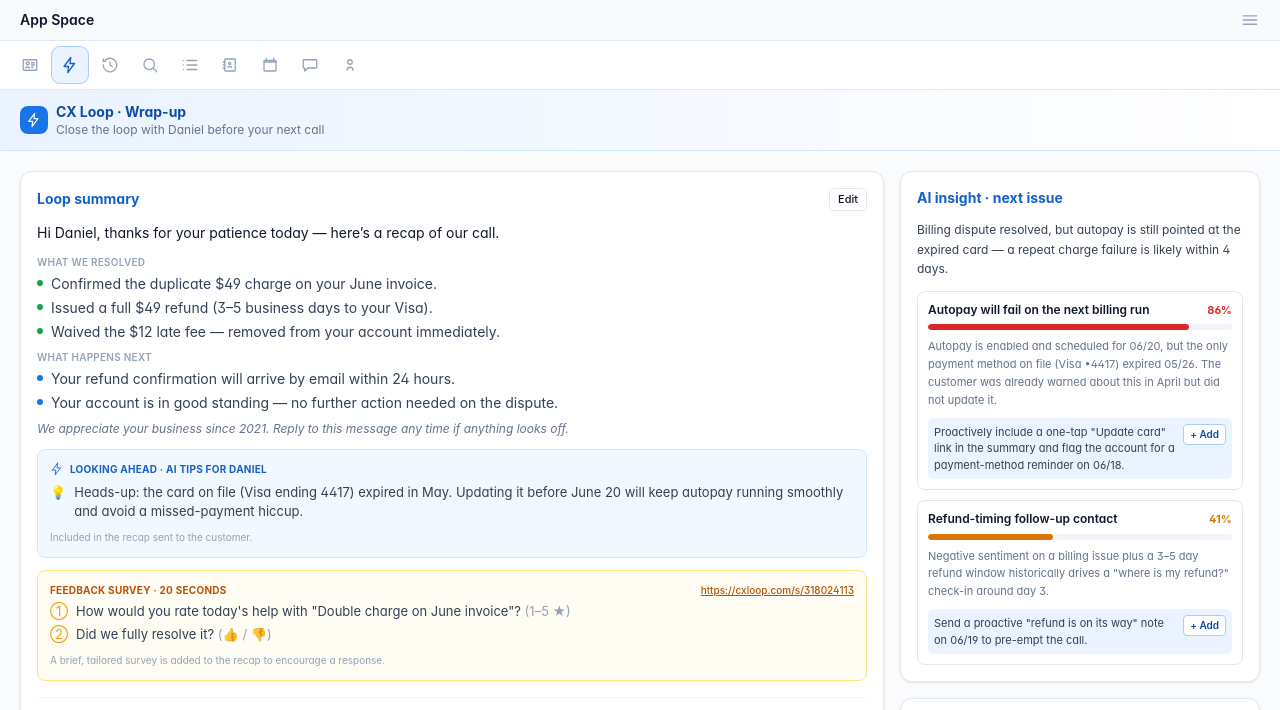
Scenario: AppSpace wrap-up — AI insights in the Loop summary › adds an AI suggested action and confirms with a disabled "Added" state
Click the button "+ Add" below "86".
click(1205, 434)  # box left=1183, top=424, right=1226, bottom=444
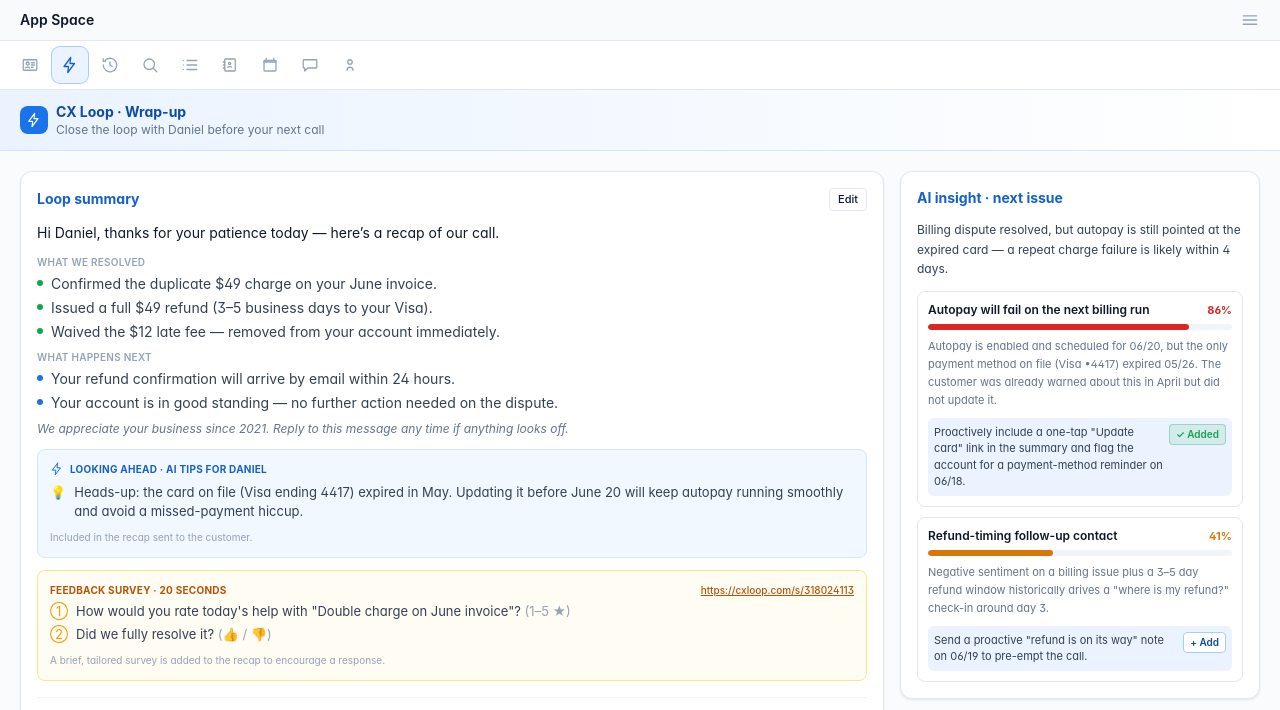
Check: the button "✓ Added" is disabled, box left=1169, top=424, right=1226, bottom=444
